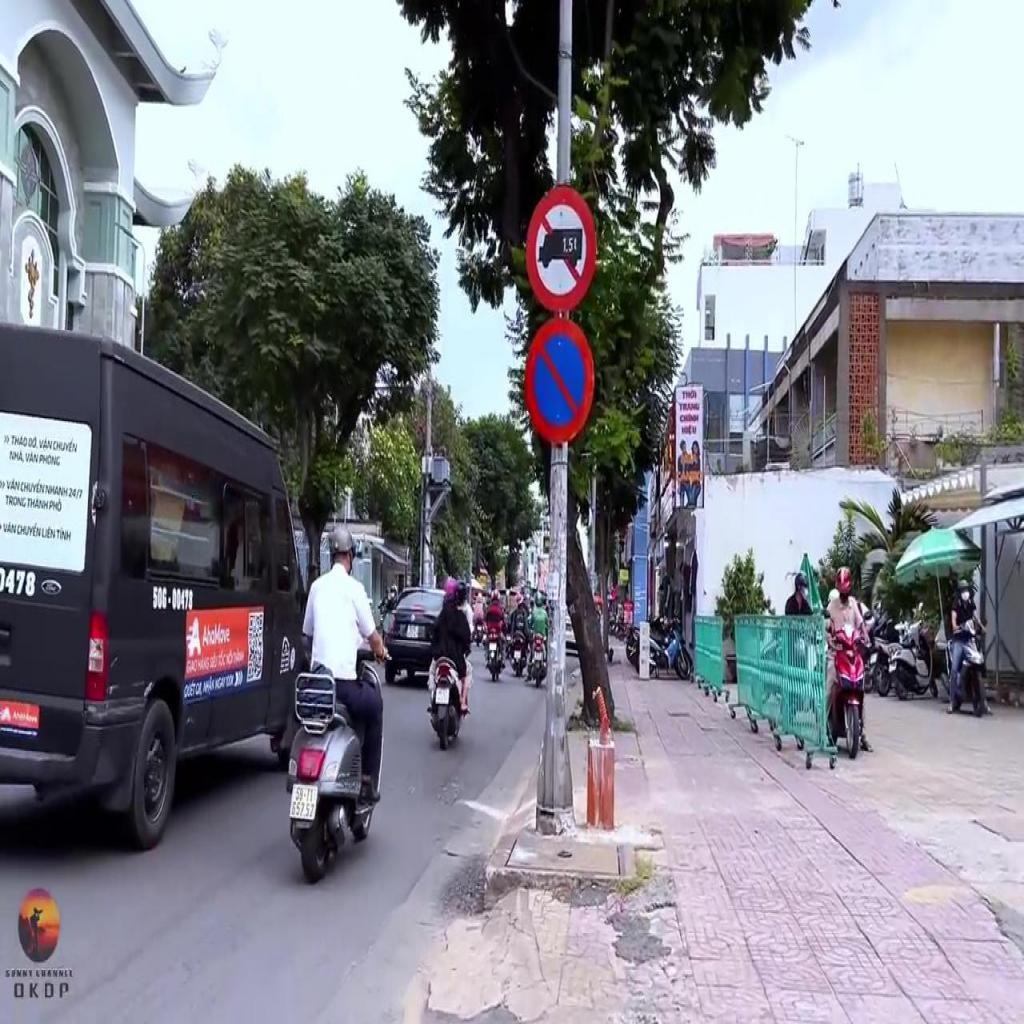cam_do_xe: (524, 317, 594, 442)
cam_o_to_tai: (525, 186, 595, 312)
